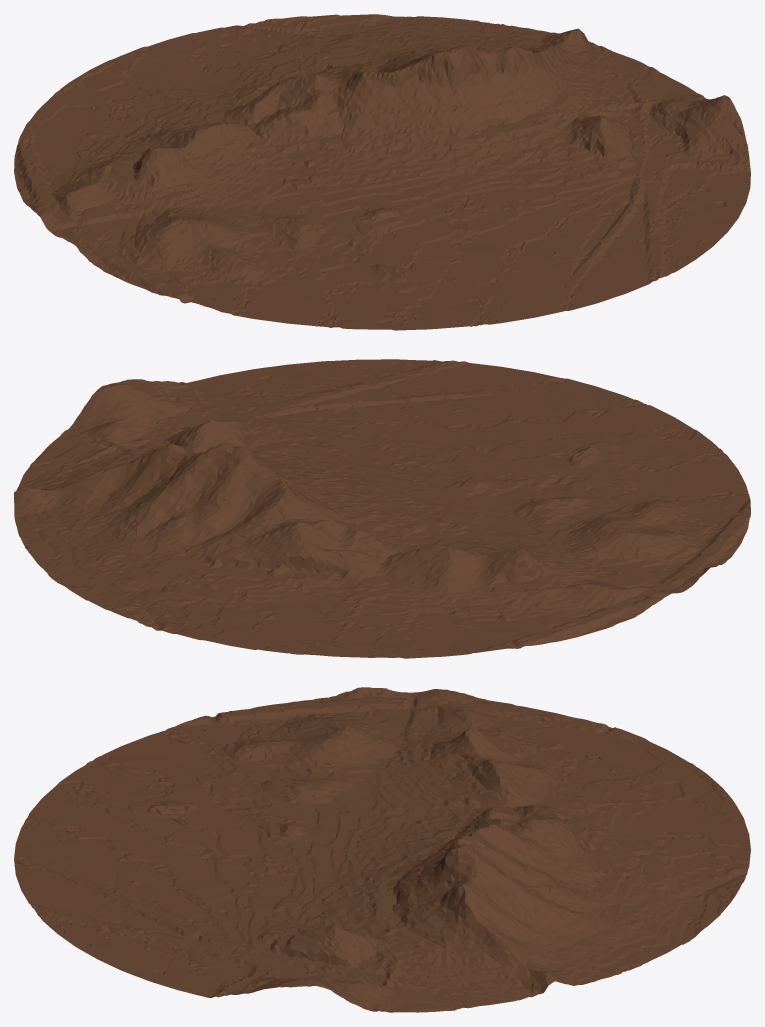
Rendered from terrain.glb.
3 views of the same model, one above another, from view 1: azimuth 30°, elevation 25°; view 2: azimuth 150°, elevation 25°; view 3: azimuth 270°, elevation 25° (orthographic).
Parts seen in each view (by area): view 1: terrain.002; view 2: terrain.002; view 3: terrain.002.
Part boxes in pixels (<box>): terrain.002: <box>14,14,750,330</box>; terrain.002: <box>14,359,750,658</box>; terrain.002: <box>14,687,750,1012</box>.
Size of the model in its own units: 2154 by 235 by 2154.
